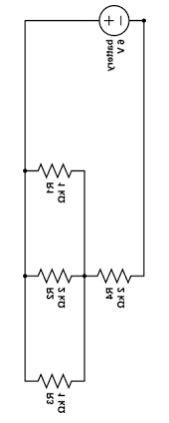resistor: (25, 355, 78, 393), (26, 151, 77, 185), (30, 260, 78, 290), (92, 257, 137, 289)
